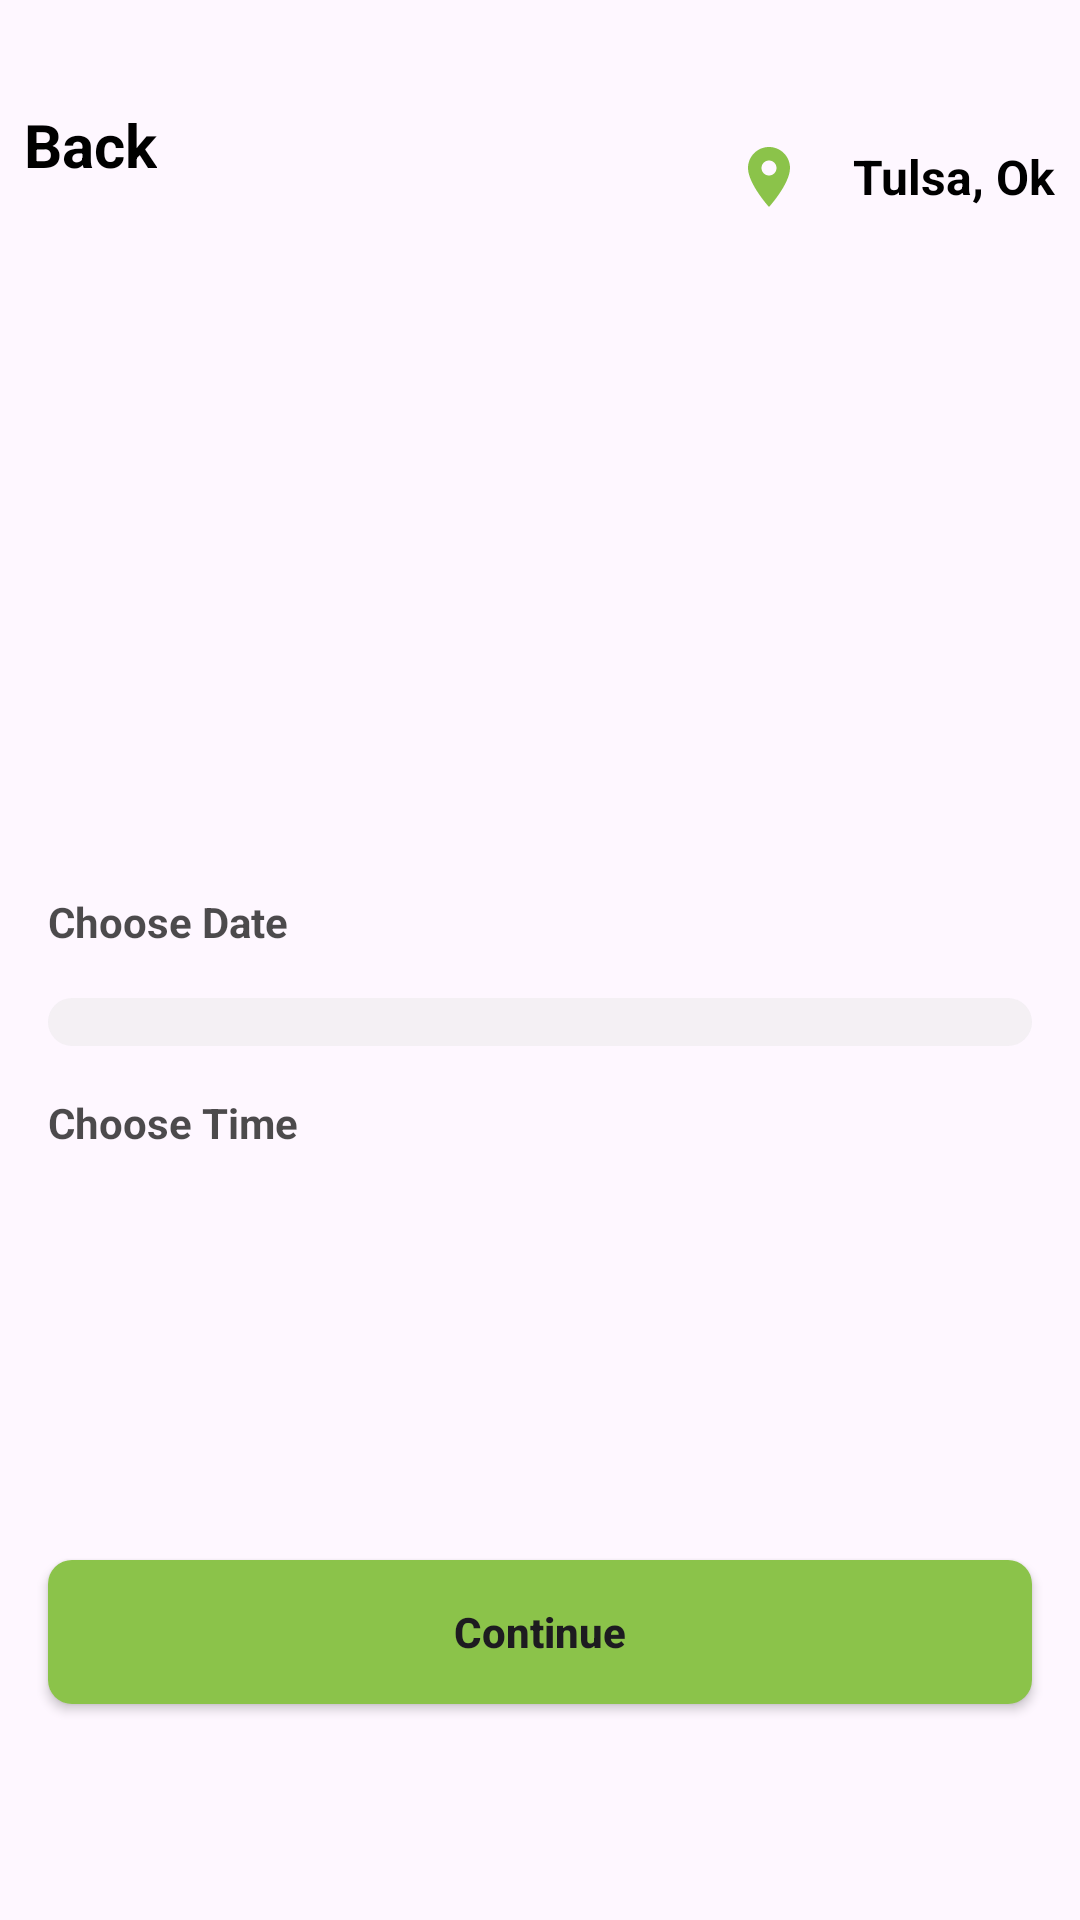

Where icons sit on this 1080*1920 app screen, as (x1, y1, x2, y2):
location pin: (748, 147, 790, 207)
